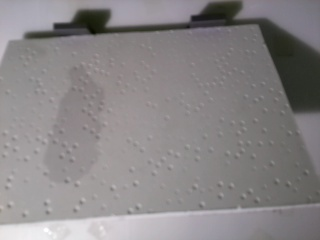Water_detected: (59, 82, 114, 178)
